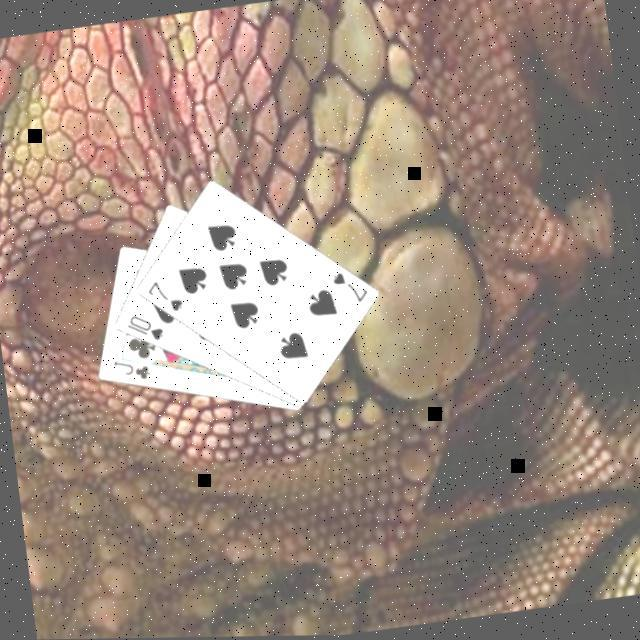10S: (120, 309, 166, 349)
7S: (142, 275, 186, 320), (327, 268, 370, 310)
JC: (108, 353, 152, 388)
